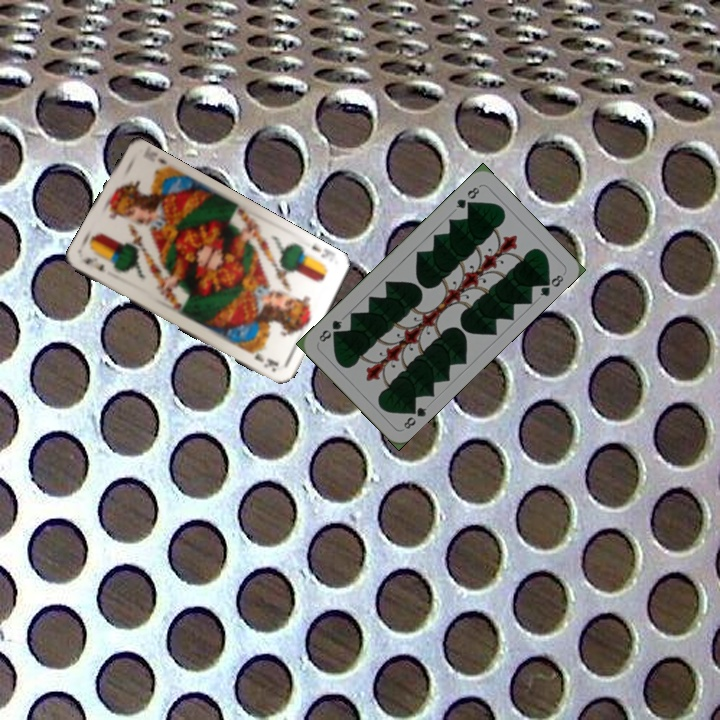EK: (79, 254, 108, 274), (308, 241, 337, 261)
G8: (399, 401, 429, 432), (452, 183, 483, 211)
